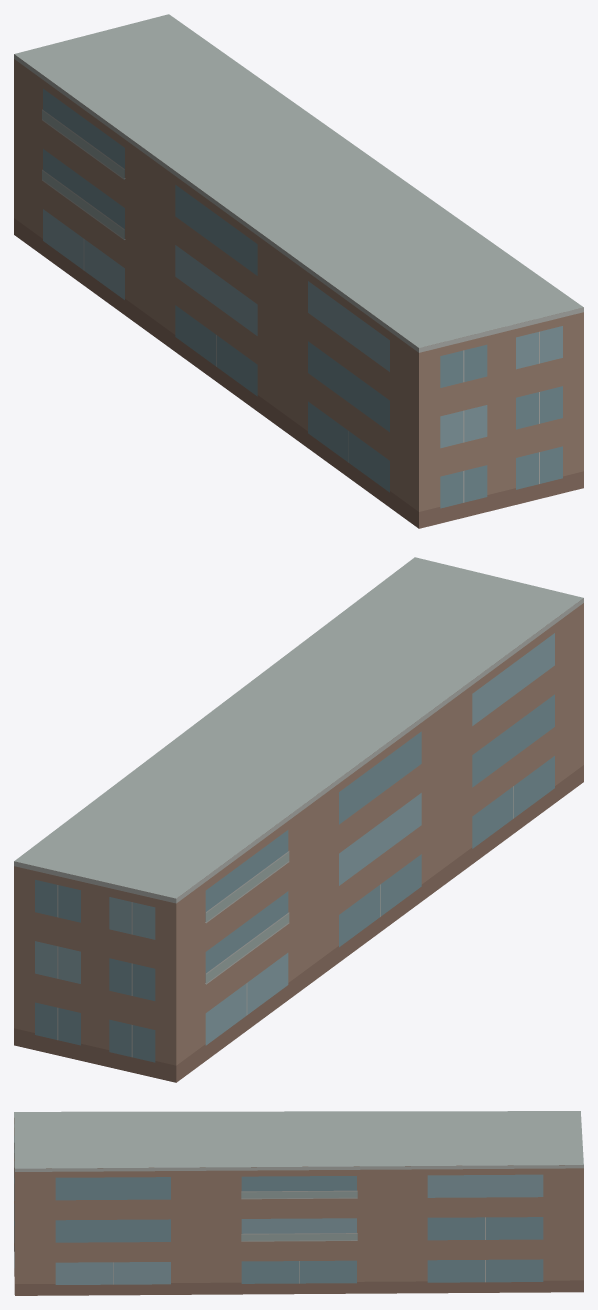
Rendered from survey-upis-32467471.glb.
The picture shows the model from 3 angles, top to bottom: view 1: azimuth 30°, elevation 25°; view 2: azimuth 150°, elevation 25°; view 3: azimuth 270°, elevation 25°; orthographic projection. The views are drawn at different scales.
Visible parts, largest first — view 1: survey-upis-32467471.tmp; view 2: survey-upis-32467471.tmp; view 3: survey-upis-32467471.tmp.
Boxes of the visible parts, x1,y1,x2,y2 form: survey-upis-32467471.tmp: (14, 14, 583, 528); survey-upis-32467471.tmp: (14, 557, 583, 1082); survey-upis-32467471.tmp: (14, 1111, 583, 1295).
Bounding box in the file's own units: 8.93 × 9.15 × 37.15.
